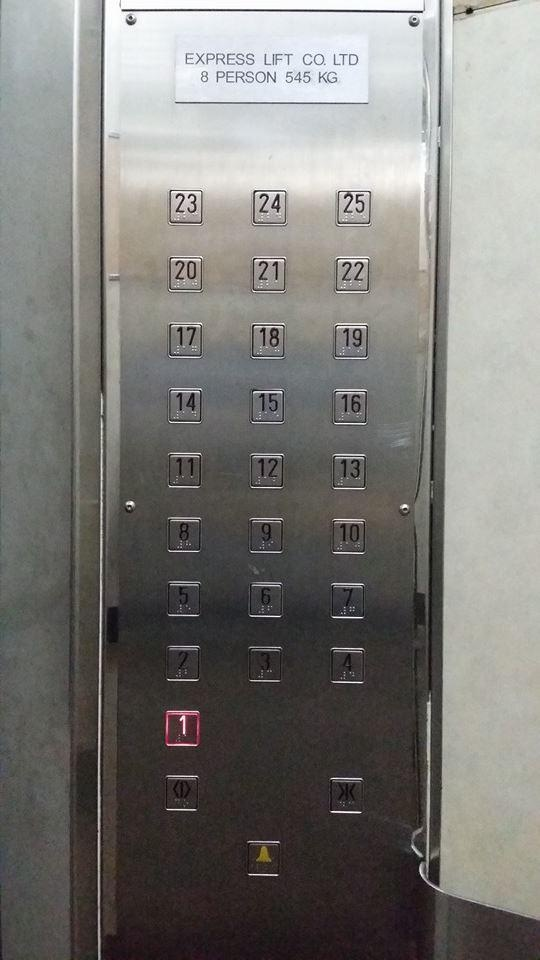1: (162, 708, 202, 750)
10: (326, 516, 367, 556)
11: (164, 448, 202, 489)
12: (245, 448, 288, 492)
13: (330, 450, 372, 494)
14: (162, 383, 208, 430)
15: (247, 386, 291, 427)
16: (327, 381, 373, 429)
17: (163, 319, 208, 364)
18: (244, 320, 288, 364)
19: (327, 318, 374, 364)
2: (163, 646, 203, 684)
20: (163, 256, 205, 293)
21: (247, 251, 289, 296)
22: (327, 251, 374, 297)
23: (164, 188, 207, 227)
24: (248, 189, 292, 230)
25: (333, 188, 374, 229)
3: (240, 643, 286, 690)
4: (324, 646, 370, 689)
5: (163, 578, 202, 617)
6: (243, 581, 286, 621)
7: (325, 582, 367, 620)
8: (165, 513, 202, 557)
9: (245, 514, 286, 556)
alarm: (240, 835, 284, 884)
close: (329, 774, 365, 818)
open: (161, 773, 203, 814)
